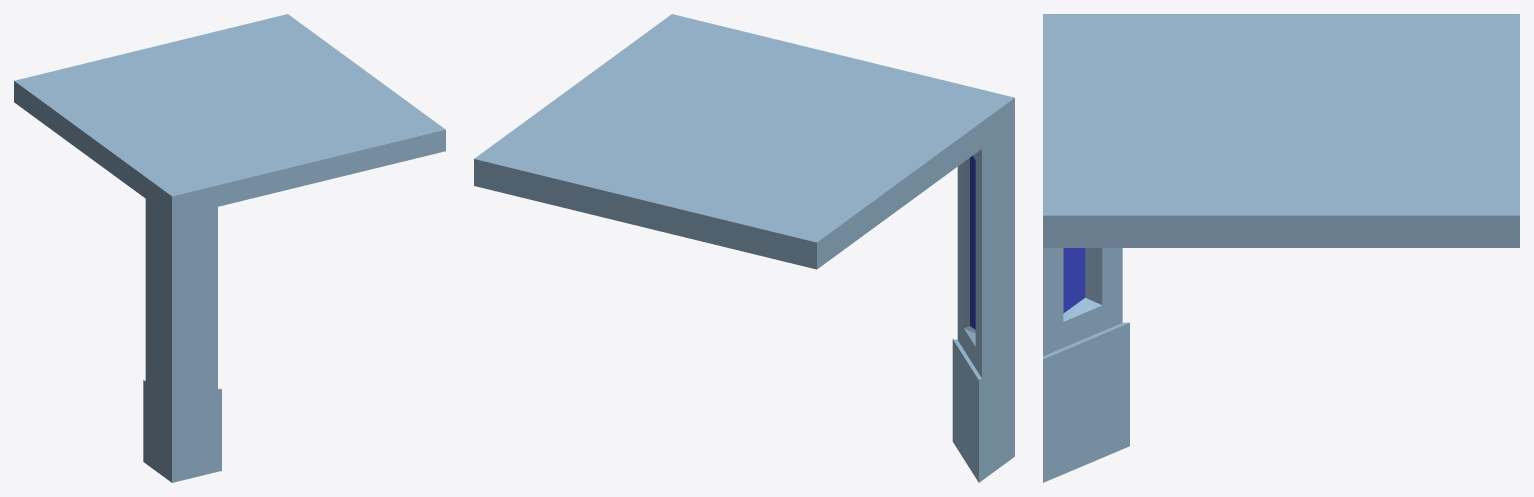
The model's file is EspacioRedSocialEsquinaAperturaInteriorNI.gltf.
3 renders of one model, left to right at view 1: azimuth 30°, elevation 25°; view 2: azimuth 150°, elevation 25°; view 3: azimuth 270°, elevation 25°, orthographic. The views are drawn at different scales.
Visible parts, largest first — view 1: Cubo.9; view 2: Cubo.9; view 3: Cubo.9.
Part boxes in pixels (x1=…): Cubo.9: x1=14, y1=14, x2=445, y2=482; Cubo.9: x1=474, y1=14, x2=1014, y2=482; Cubo.9: x1=1043, y1=14, x2=1519, y2=482.
Size of the model in its own units: 2 by 2 by 2.
1 material, 1 textured.
